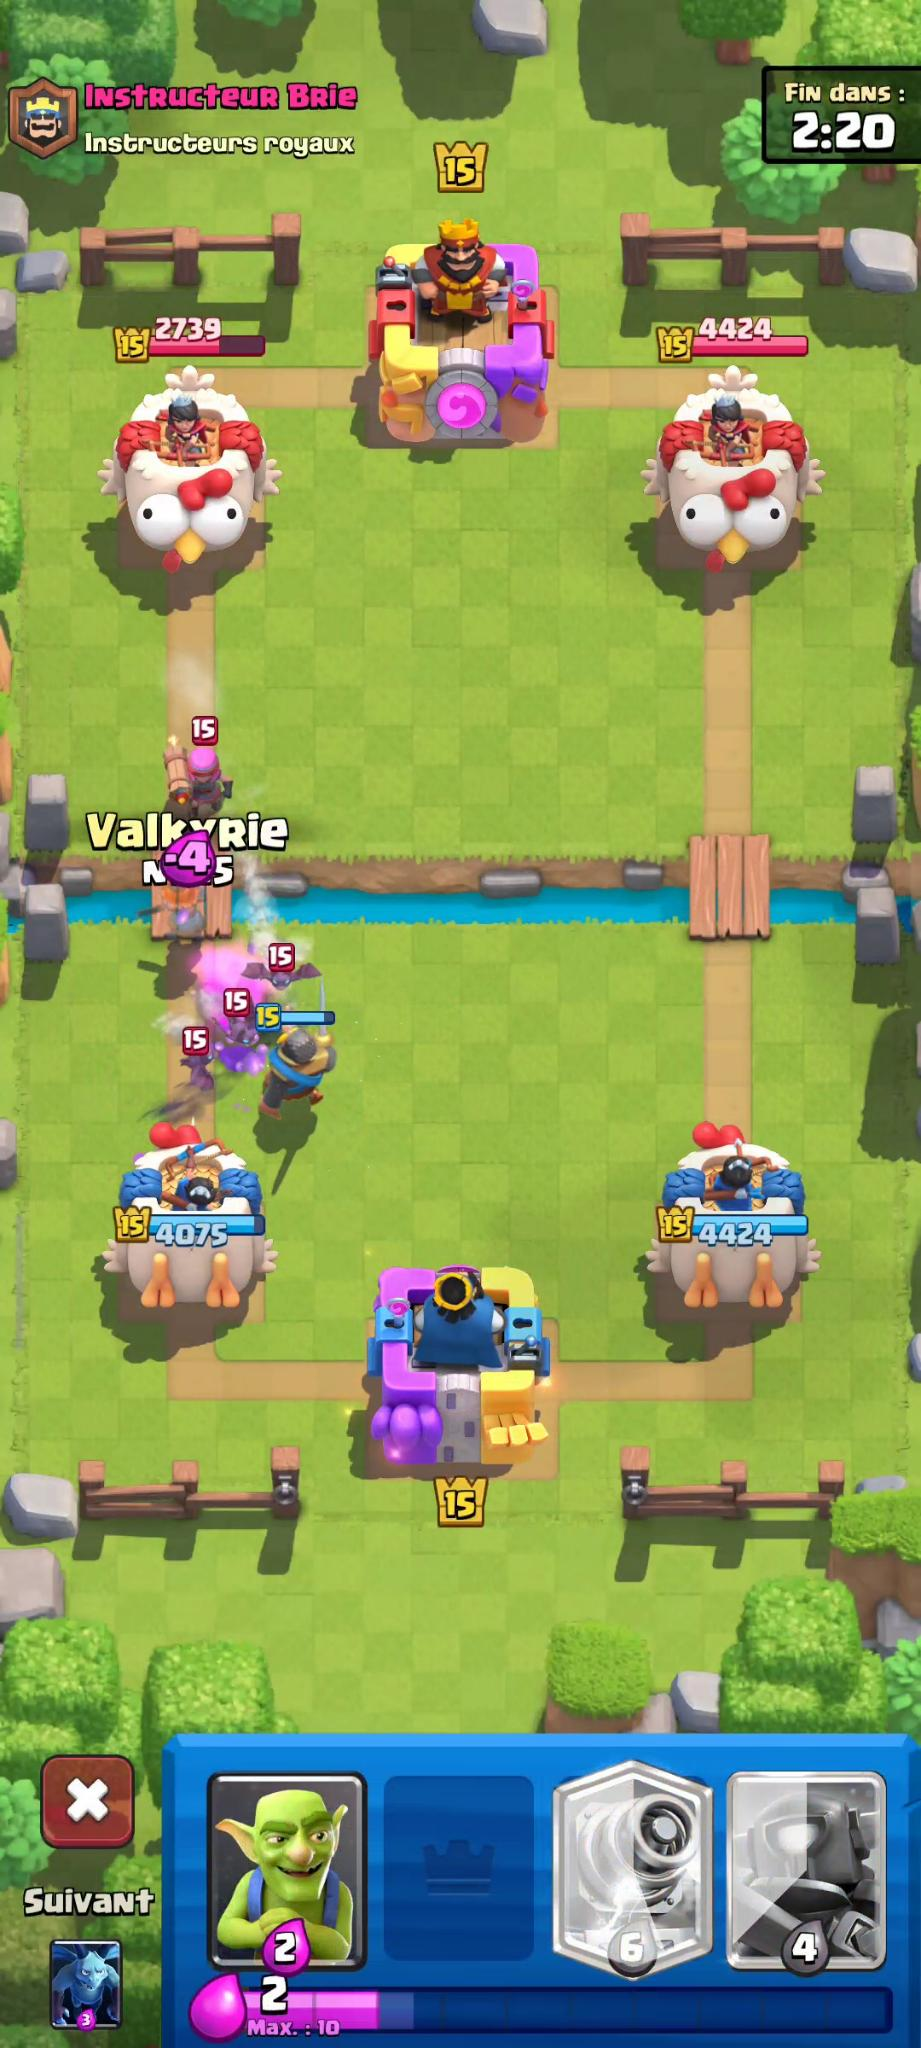bat: (243, 939, 334, 999), (169, 1029, 222, 1100), (213, 1002, 265, 1051)
chevalier: (240, 1007, 347, 1125)
valkyrie: (133, 871, 226, 964)
